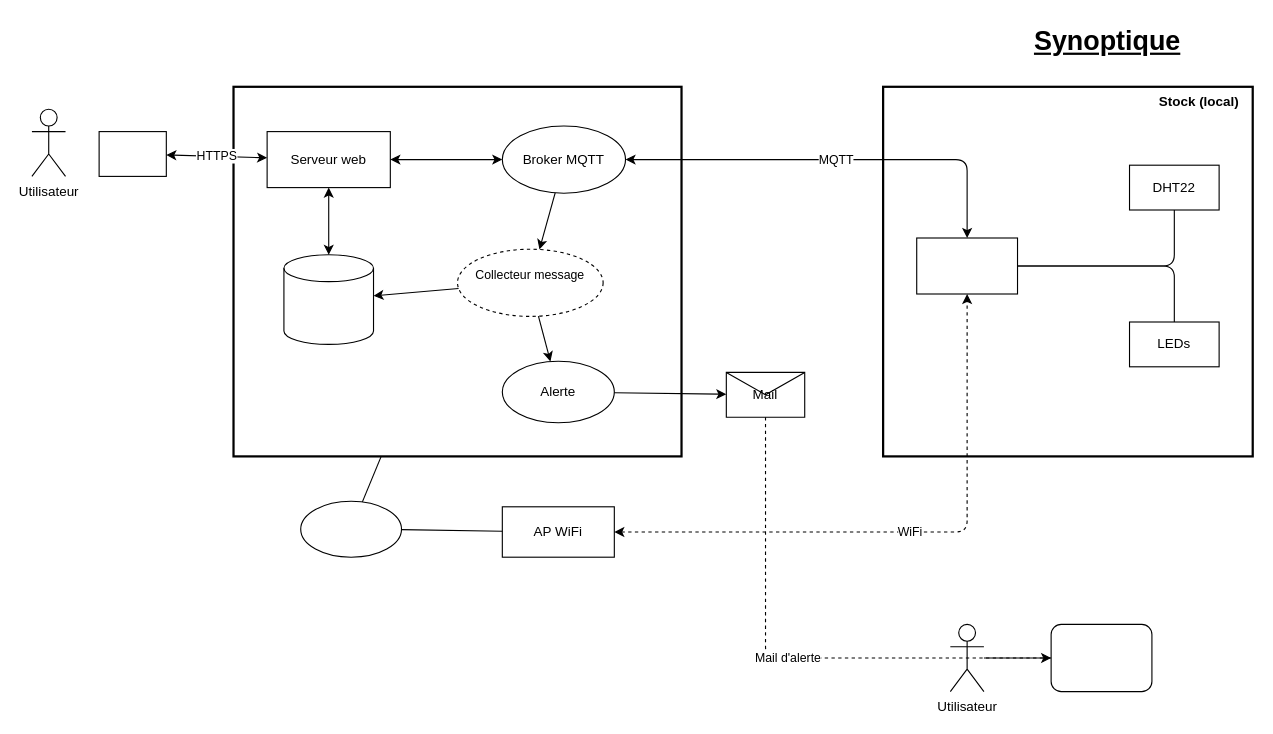
This 1273x734 diagram has some shape labels left out. The shapes that lost their labels are listed below. From the top down, each one's box as (x1, y1, x2, y2) in pixels, then its label:
(98, 130, 166, 176): PC
(232, 85, 682, 457): Serveur cloud
(916, 237, 1018, 294): ESP32
(283, 254, 374, 344): BDD
(300, 500, 402, 557): Routeur
(1050, 623, 1152, 692): Smartphone / PC
